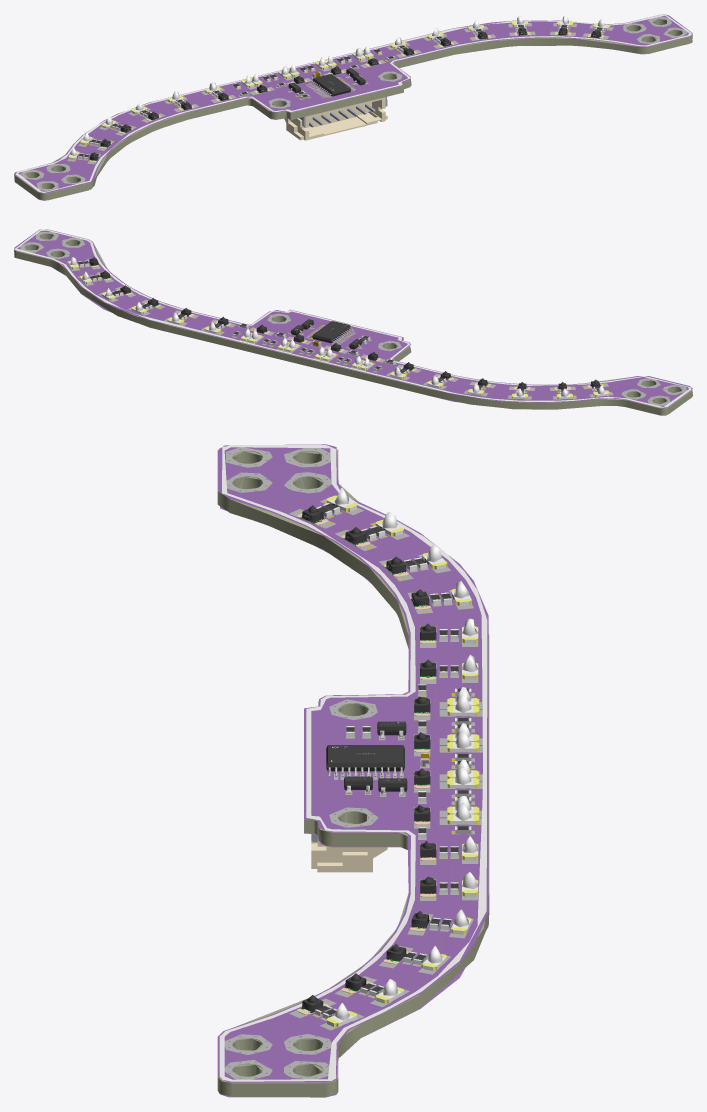
File: 16mux.glb
3 views of the same model, one above another, from view 1: azimuth 30°, elevation 25°; view 2: azimuth 150°, elevation 25°; view 3: azimuth 270°, elevation 25° (orthographic). The views are drawn at different scales.
Parts seen in each view (by area): view 1: =>[0:1:1:3], =>[0:1:1:21]; view 2: =>[0:1:1:3], =>[0:1:1:21]; view 3: =>[0:1:1:3], =>[0:1:1:21].
Boxes of the visible parts, bbox=[...] form: =>[0:1:1:3]: bbox=[14, 14, 692, 200]; =>[0:1:1:21]: bbox=[14, 14, 692, 200]; =>[0:1:1:3]: bbox=[14, 229, 692, 415]; =>[0:1:1:21]: bbox=[14, 229, 692, 415]; =>[0:1:1:3]: bbox=[217, 445, 489, 1096]; =>[0:1:1:21]: bbox=[217, 444, 488, 1097].
Size of the model in its own units: 0.15 by 0.00923 by 0.027.
2 materials, 2 textured.
